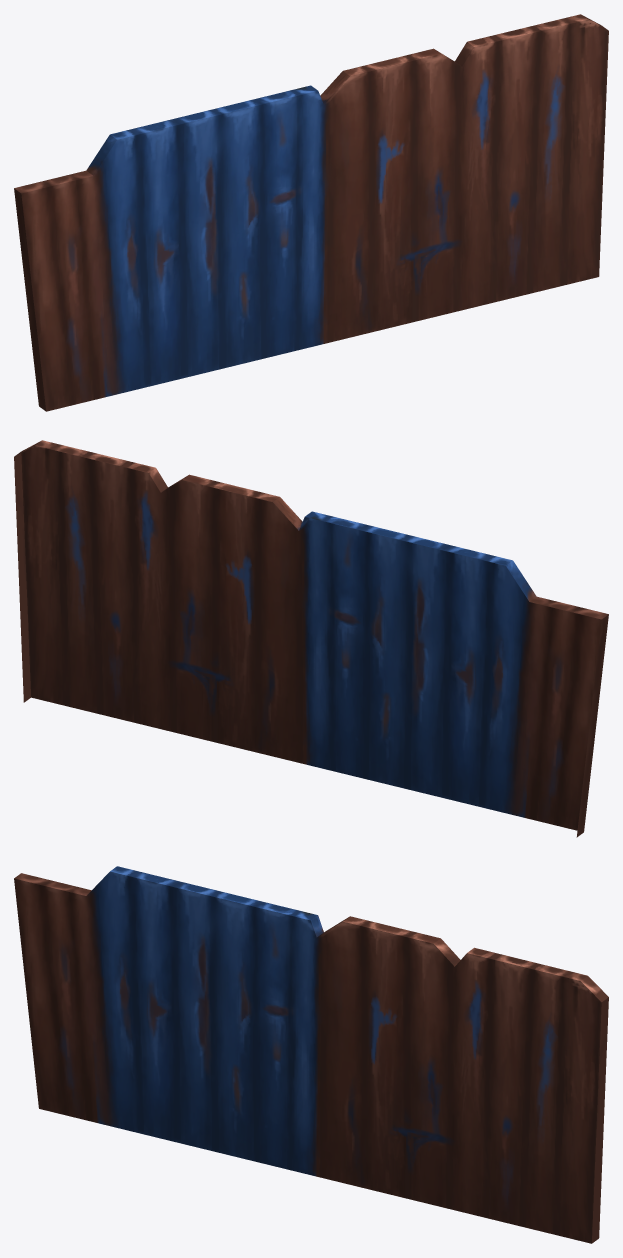
3 renders of one model, top to bottom at view 1: azimuth 30°, elevation 25°; view 2: azimuth 150°, elevation 25°; view 3: azimuth 330°, elevation 25°, orthographic.
Visible parts, largest first — view 1: wj_objects_01_2; view 2: wj_objects_01_2; view 3: wj_objects_01_2.
Part boxes in pixels (x1=…): wj_objects_01_2: x1=14, y1=14, x2=608, y2=411; wj_objects_01_2: x1=14, y1=440, x2=608, y2=837; wj_objects_01_2: x1=14, y1=866, x2=608, y2=1243.
Size of the model in its own units: 985 by 21.26 by 419.
